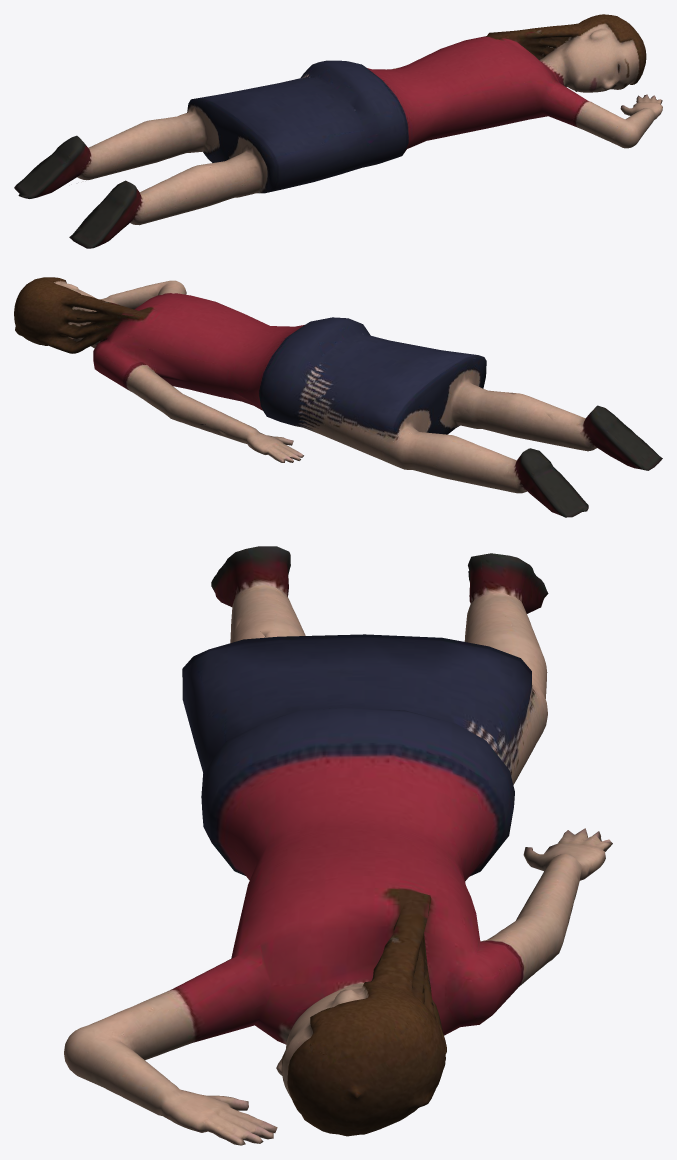
File: victim_female_face_down.glb
The picture shows the model from 3 angles, top to bottom: view 1: azimuth 30°, elevation 25°; view 2: azimuth 150°, elevation 25°; view 3: azimuth 270°, elevation 25°; orthographic projection. The views are drawn at different scales.
Visible parts, largest first — view 1: victim_female_face_down; view 2: victim_female_face_down; view 3: victim_female_face_down.
Part boxes in pixels (x1,y1,x2,y2): victim_female_face_down: (14, 14, 662, 248); victim_female_face_down: (14, 277, 662, 517); victim_female_face_down: (64, 546, 612, 1145).
Bounding box in the file's own units: 1.73 × 0.2221 × 0.6895.
Materials: 1 (1 with a texture image).
